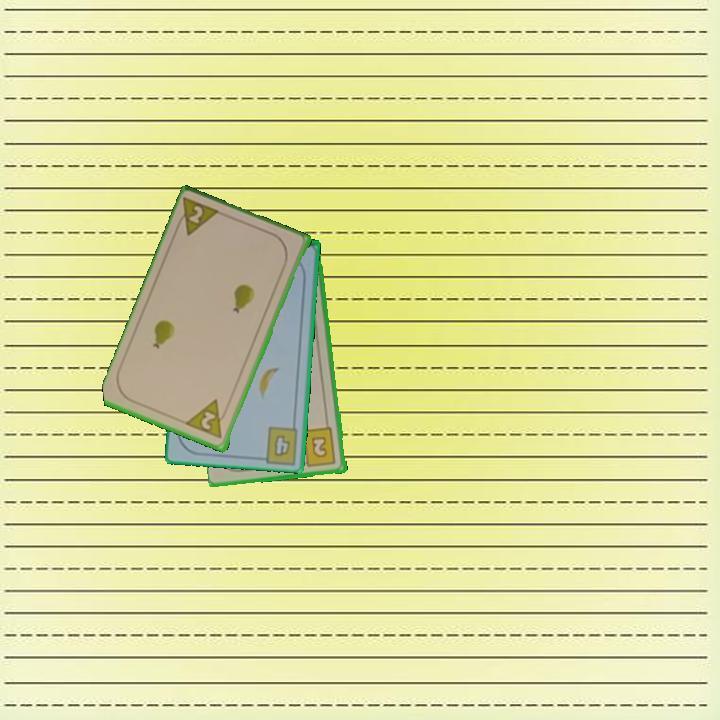2b: (297, 425, 339, 469)
2p: (172, 194, 224, 239), (184, 396, 231, 442)
4b: (271, 432, 293, 460)
